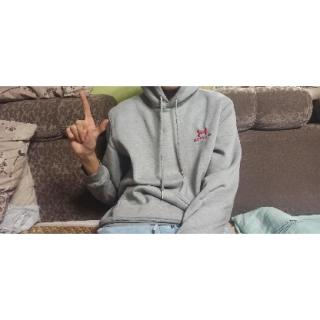LAAM: (63, 88, 112, 161)
